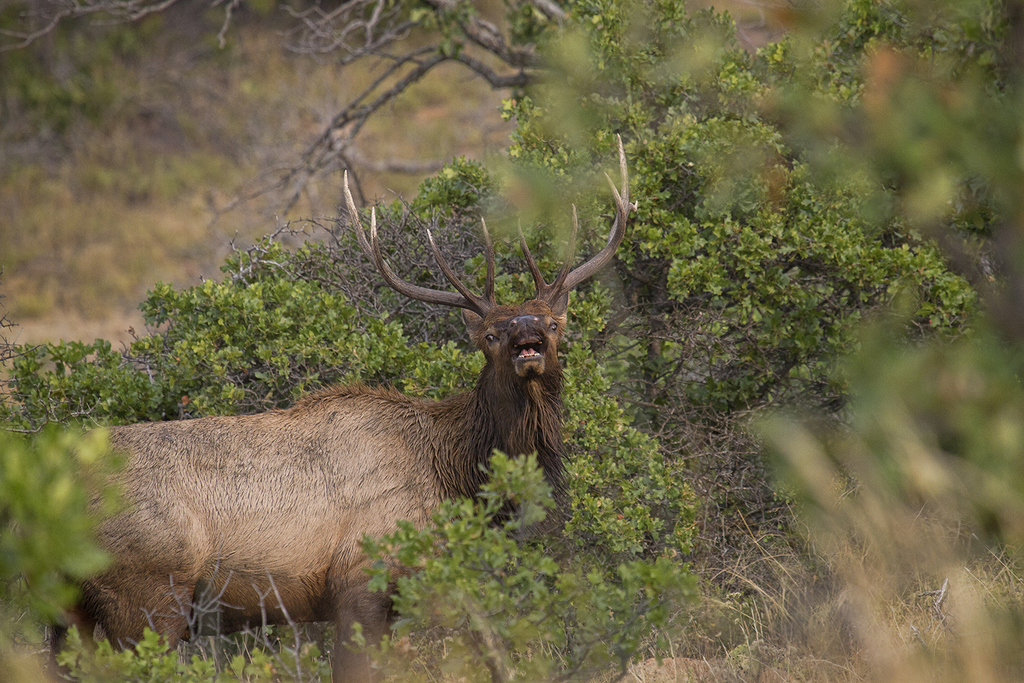Animal: (0, 131, 638, 682)
